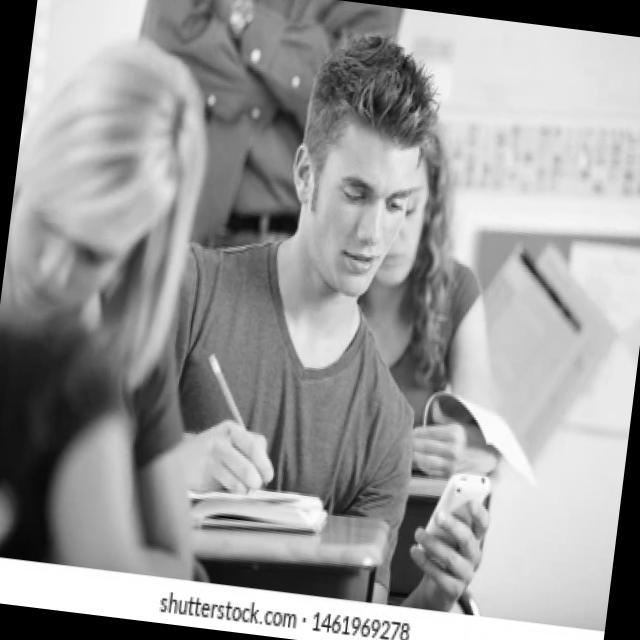phone: (417, 467, 493, 572)
